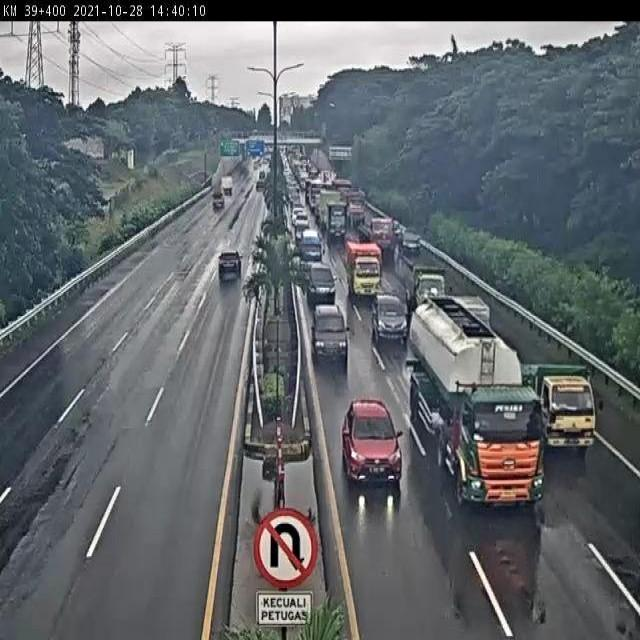bus-s-: (298, 226, 325, 262)
car: (341, 395, 410, 489), (309, 301, 352, 368), (369, 292, 412, 348), (303, 262, 339, 310), (216, 249, 243, 283), (400, 225, 424, 256)
truck-m-: (516, 359, 599, 453), (343, 238, 387, 302), (409, 258, 451, 314)
truck-xl-: (407, 294, 547, 510), (354, 210, 398, 258)
